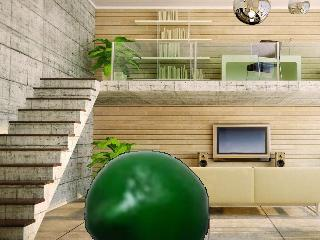lime: (83, 152, 209, 240)
